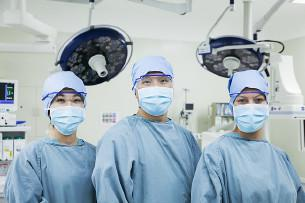OK: (47, 91, 88, 132), (137, 75, 177, 115), (233, 93, 272, 132)
